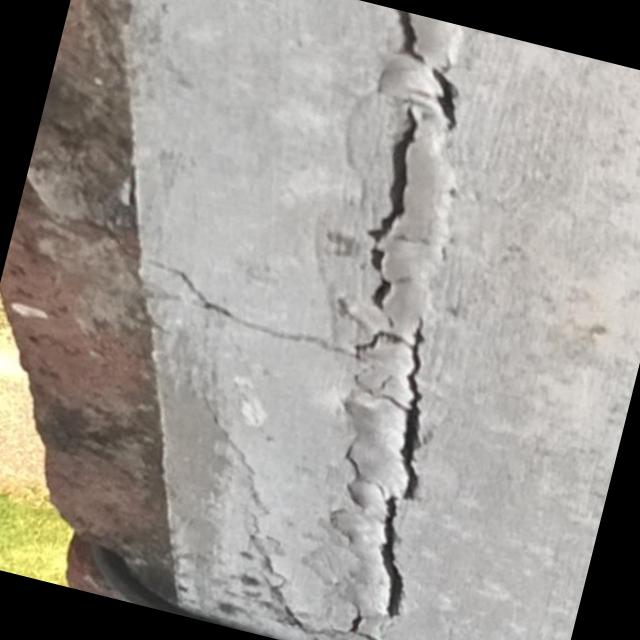crack: (350, 318, 428, 623), (366, 110, 417, 315)
